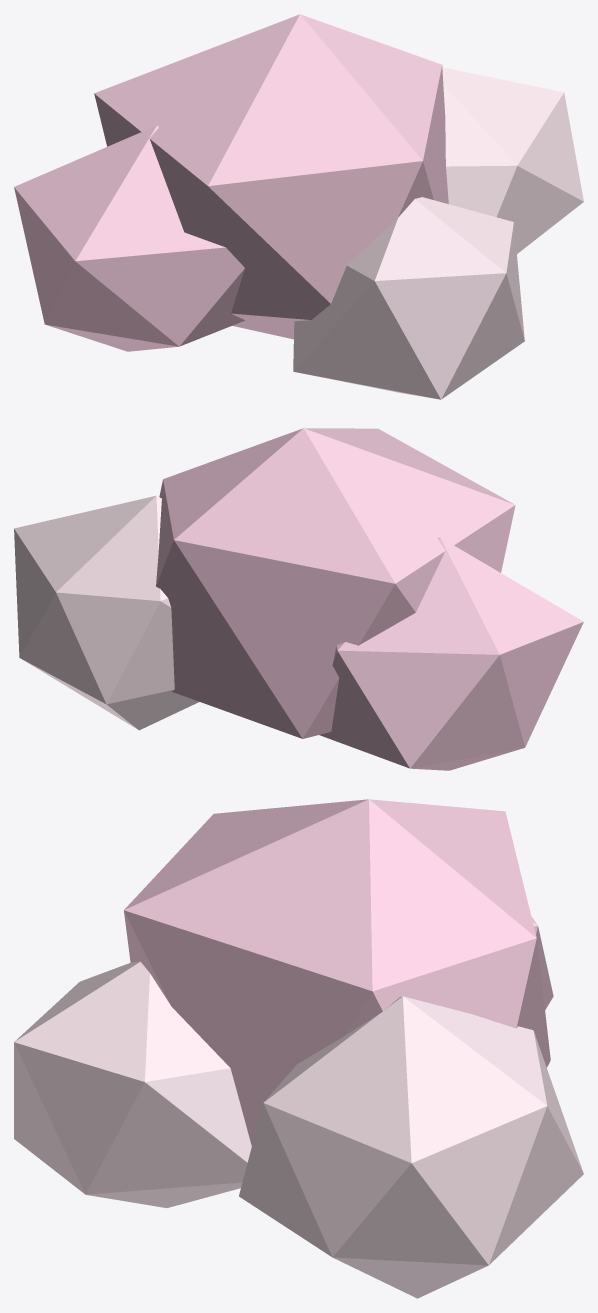
Rendered from Bush_Blossom.fbx.
3 views of the same model, one above another, from view 1: azimuth 30°, elevation 25°; view 2: azimuth 150°, elevation 25°; view 3: azimuth 270°, elevation 25° (orthographic). The views are drawn at different scales.
Parts seen in each view (by area): view 1: Bush_Blossom_Mesh; view 2: Bush_Blossom_Mesh; view 3: Bush_Blossom_Mesh.
Boxes of the visible parts, left/top/right/bottom form: Bush_Blossom_Mesh: left=14, top=14, right=583, bottom=399; Bush_Blossom_Mesh: left=14, top=428, right=583, bottom=770; Bush_Blossom_Mesh: left=14, top=799, right=583, bottom=1298.
Bounding box in the file's own units: 1.88 × 1.11 × 1.4.
